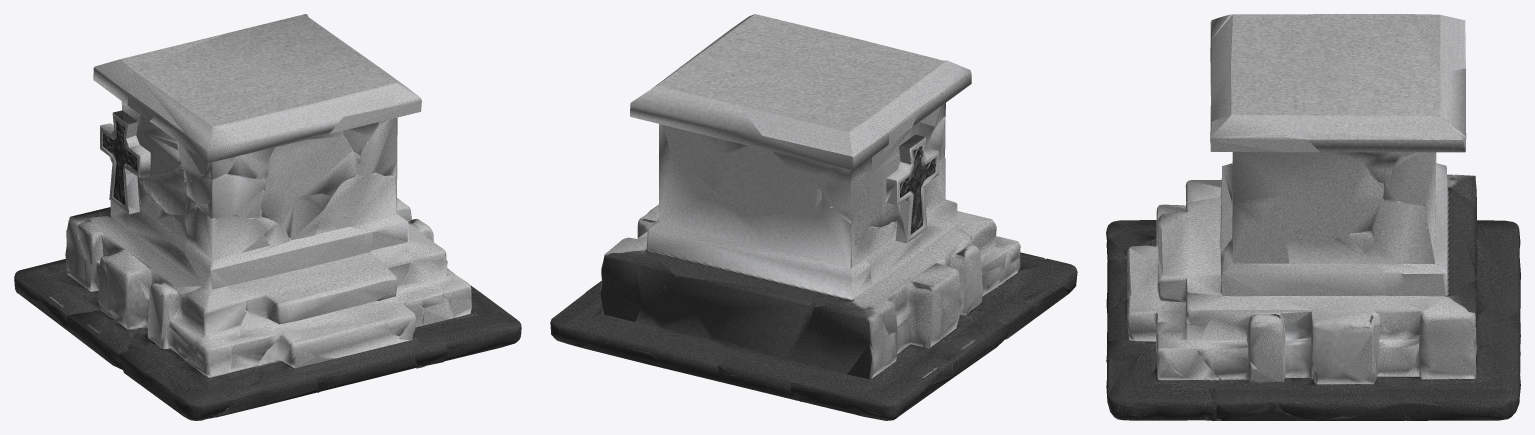
The model's file is PierreTombale2.fbx.
3 renders of one model, left to right at view 1: azimuth 30°, elevation 25°; view 2: azimuth 150°, elevation 25°; view 3: azimuth 270°, elevation 25°, orthographic. The views are drawn at different scales.
Parts seen in each view (by area): view 1: Mesh_0; view 2: Mesh_0; view 3: Mesh_0.
Part boxes in pixels (left/top/right/bottom): Mesh_0: left=14, top=14, right=521, bottom=420; Mesh_0: left=550, top=14, right=1077, bottom=420; Mesh_0: left=1106, top=14, right=1520, bottom=420.
Size of the model in its own units: 190 by 129 by 182.
1 material, 1 textured.
